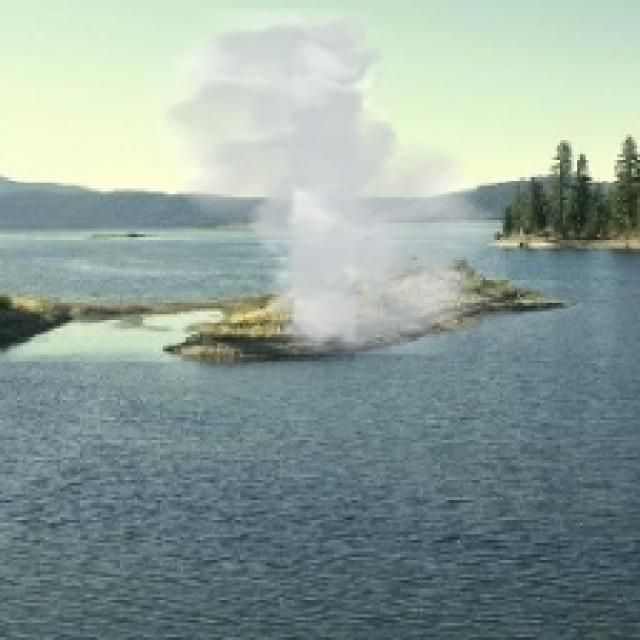Smoke: (143, 8, 506, 354)
